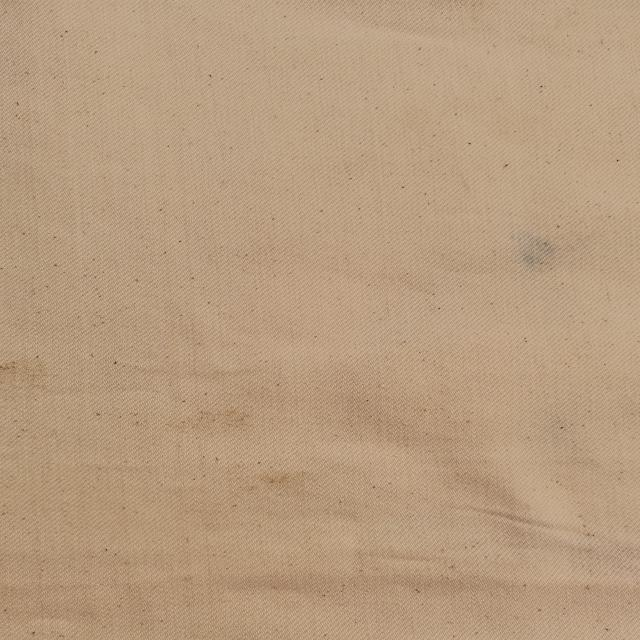taaaches: (518, 231, 572, 279), (179, 408, 253, 436), (0, 356, 54, 384)
